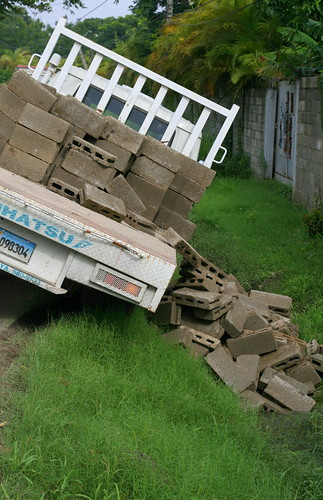debris: (19, 88, 321, 442)
truck: (1, 45, 232, 351)
